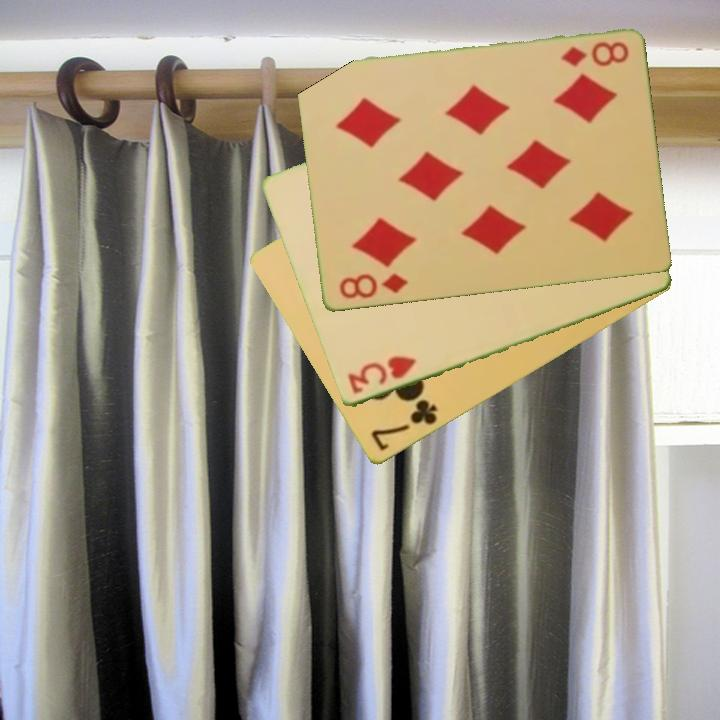3h: (343, 353, 420, 398)
7c: (367, 396, 441, 455)
8d: (336, 270, 410, 303), (556, 38, 631, 70)
